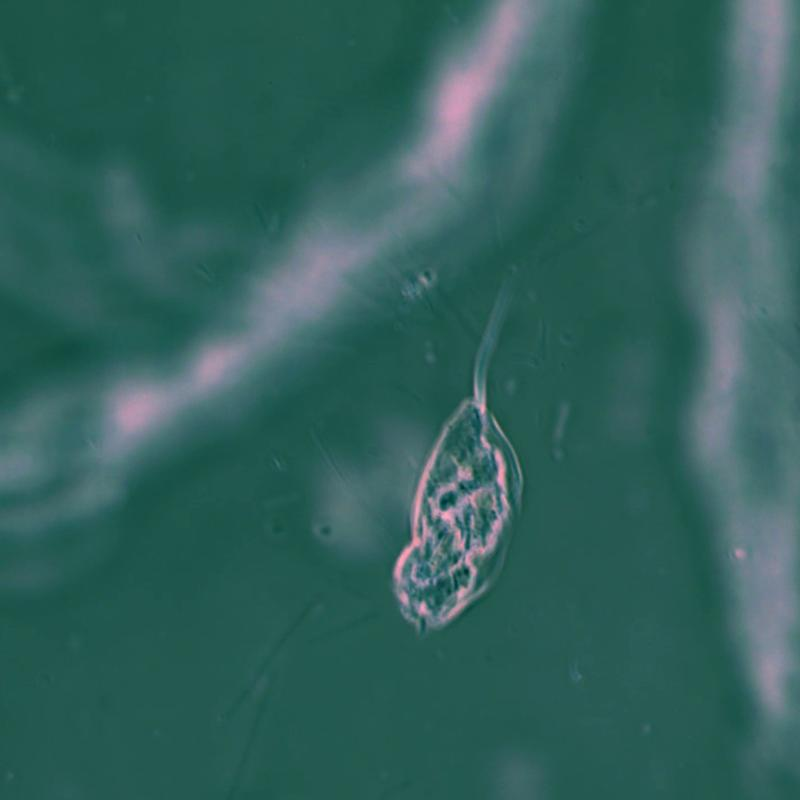depth:0: (388, 273, 568, 678)
